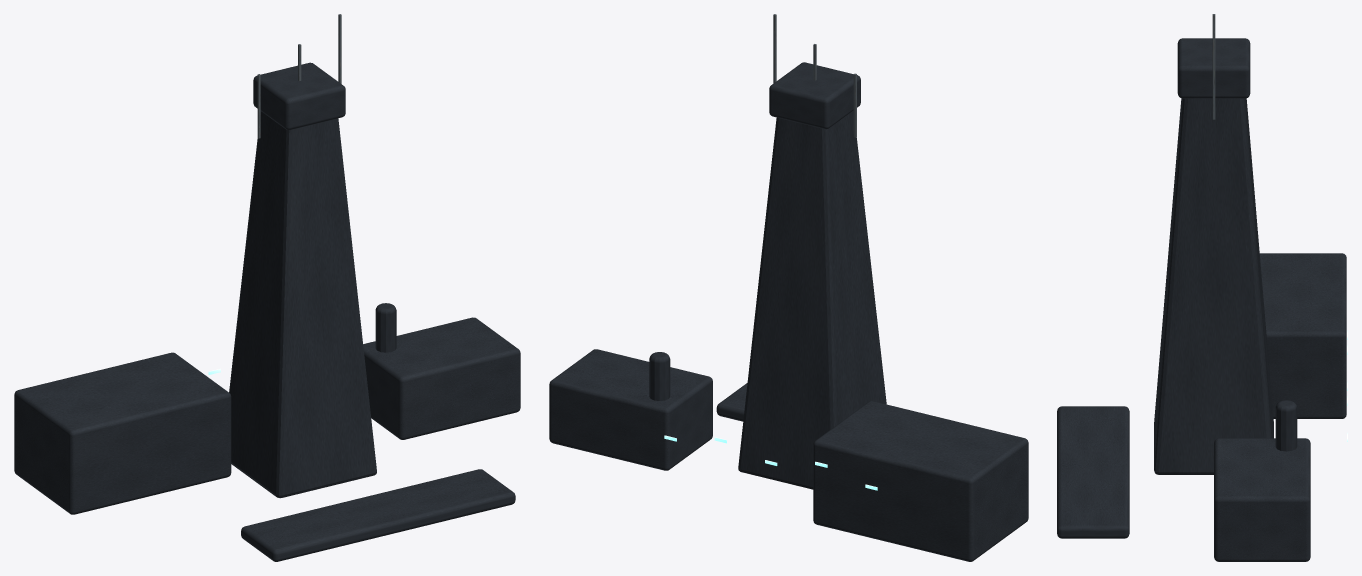
Rendered from background_silhouette.glb.
3 renders of one model, left to right at view 1: azimuth 30°, elevation 25°; view 2: azimuth 150°, elevation 25°; view 3: azimuth 270°, elevation 25°, orthographic. The views are drawn at different scales.
Visible parts, largest first — view 1: DistTower, DistShedA, DistShedB, DistPlatform, DistTowerTop, DistStack; view 2: DistTower, DistShedA, DistShedB, DistTowerTop, DistStack, DistPlatform; view 3: DistTower, DistShedA, DistShedB, DistPlatform, DistTowerTop, DistStack, DistAntenna2.
Part boxes in pixels (x1=…): DistTower: x1=229, y1=111, x2=376, y2=498; DistShedA: x1=14, y1=352, x2=231, y2=514; DistShedB: x1=363, y1=317, x2=520, y2=439; DistPlatform: x1=241, y1=469, x2=515, y2=561; DistTowerTop: x1=253, y1=62, x2=345, y2=129; DistStack: x1=375, y1=303, x2=396, y2=352; DistTower: x1=738, y1=110, x2=886, y2=489; DistShedA: x1=813, y1=401, x2=1028, y2=561; DistShedB: x1=549, y1=349, x2=712, y2=470; DistTowerTop: x1=769, y1=62, x2=860, y2=129; DistStack: x1=649, y1=352, x2=670, y2=400; DistPlatform: x1=716, y1=383, x2=747, y2=421; DistTower: x1=1154, y1=98, x2=1273, y2=474; DistShedA: x1=1259, y1=253, x2=1346, y2=418; DistShedB: x1=1214, y1=438, x2=1310, y2=561; DistPlatform: x1=1057, y1=406, x2=1129, y2=538; DistTowerTop: x1=1177, y1=38, x2=1250, y2=98; DistStack: x1=1275, y1=400, x2=1297, y2=451; DistAntenna2: x1=1212, y1=14, x2=1215, y2=119.
Bounding box in the file's own units: 44 × 43.4 × 24.09.
3 materials, 3 textured.
